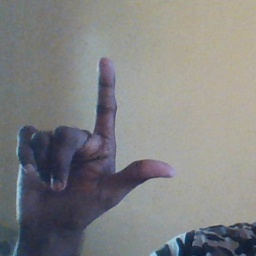L: (14, 54, 179, 227)
